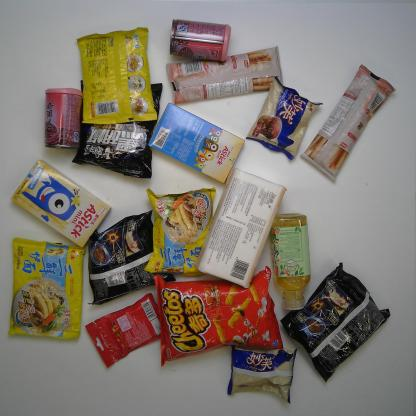Candy: (83, 291, 166, 371)
Canned Food: (167, 17, 232, 64), (42, 87, 84, 150)
Dessert: (297, 61, 399, 185), (8, 156, 113, 250), (147, 101, 247, 185), (164, 45, 286, 106), (244, 75, 324, 164), (225, 343, 300, 407)
Drink: (266, 211, 315, 313)
Instant Noodles: (278, 260, 393, 386), (70, 78, 163, 179), (84, 208, 178, 306), (5, 235, 88, 342), (74, 26, 158, 126), (142, 186, 219, 278)
Puffed Food: (150, 265, 286, 368)
Tissue: (192, 164, 289, 292)
